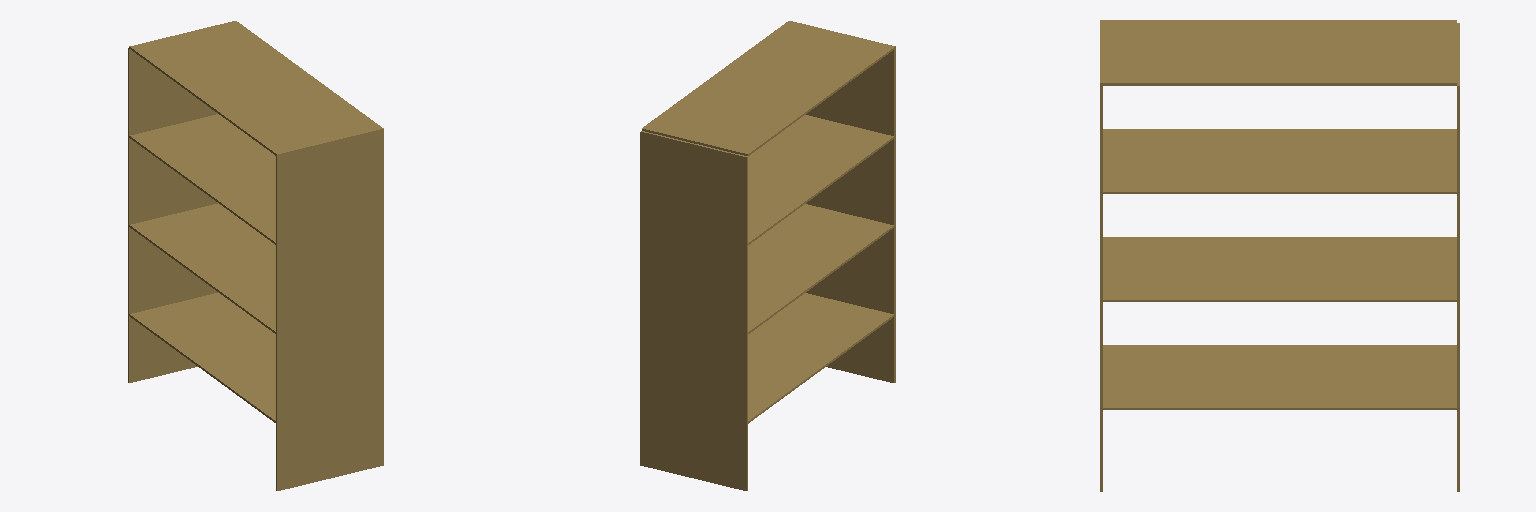
robot.urdf — shelf:
<robot name="shelf">
  <link name="shelf_base_link">
    <contact>
      <lateral_friction value="0.5"/>
      <rolling_friction value="0.0"/>
      <contact_cfm value="0.0"/>
      <contact_erp value="1.0"/>
    </contact>
    <inertial>
      <origin rpy="0 0 0" xyz="0 0 0"/>
      <mass value="0"/>
      <inertia ixx="0" ixy="0" ixz="0" iyy="0" iyz="0" izz="0"/>
    </inertial>
    <visual>
      <origin rpy="0 0 0" xyz="0 0 0"/>
      <geometry>
        <mesh filename="shelf.obj" scale="0.0009 0.0009 0.0009"/>
      </geometry>
      <material name="wood_material">
        <color rgba="0.65 0.56 0.36 1"/>
      </material>
    </visual>
    <collision>
      <origin rpy="0 0 0" xyz="0 0 0"/>
      <geometry>
        <mesh filename="shelf.obj" scale="0.0009 0.0009 0.0009"/>
      </geometry>
    </collision>
  </link>
</robot>

--- Render facts (derived) ---
3 views of the same robot in one strip: view 1: azimuth 30°, elevation 25°; view 2: azimuth 150°, elevation 25°; view 3: azimuth 270°, elevation 25° (orthographic).
Model shelf with 1 links and 0 joints (none), rooted at shelf_base_link, posed every joint at zero.
Visible links, largest first — view 1: shelf_base_link; view 2: shelf_base_link; view 3: shelf_base_link.
Link boxes in pixels (left/top/right/bottom): shelf_base_link: left=128, top=21, right=383, bottom=490; shelf_base_link: left=640, top=21, right=895, bottom=490; shelf_base_link: left=1100, top=20, right=1459, bottom=491.
Size in the robot's own frame: 0.45 by 1.09 by 1.36 metres.
Meshes: 1 distinct files referenced, 1 mesh visuals loaded (1 OBJ).